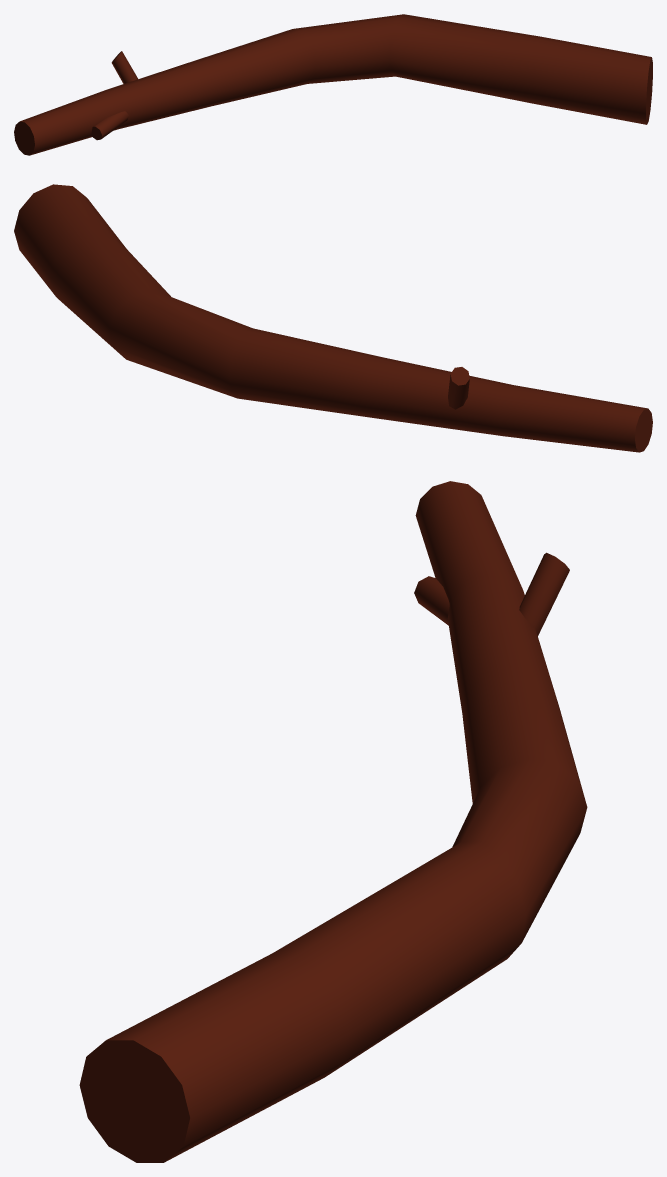
3 views of the same model, one above another, from view 1: azimuth 30°, elevation 25°; view 2: azimuth 150°, elevation 25°; view 3: azimuth 270°, elevation 25° (orthographic). The views are drawn at different scales.
Parts seen in each view (by area): view 1: root_07; view 2: root_07; view 3: root_07.
Boxes of the visible parts, x1,y1,x2,y2 form: root_07: (14, 14, 652, 155); root_07: (14, 184, 652, 452); root_07: (79, 481, 587, 1162).
Size of the model in its own units: 212 by 34.97 by 82.65.
